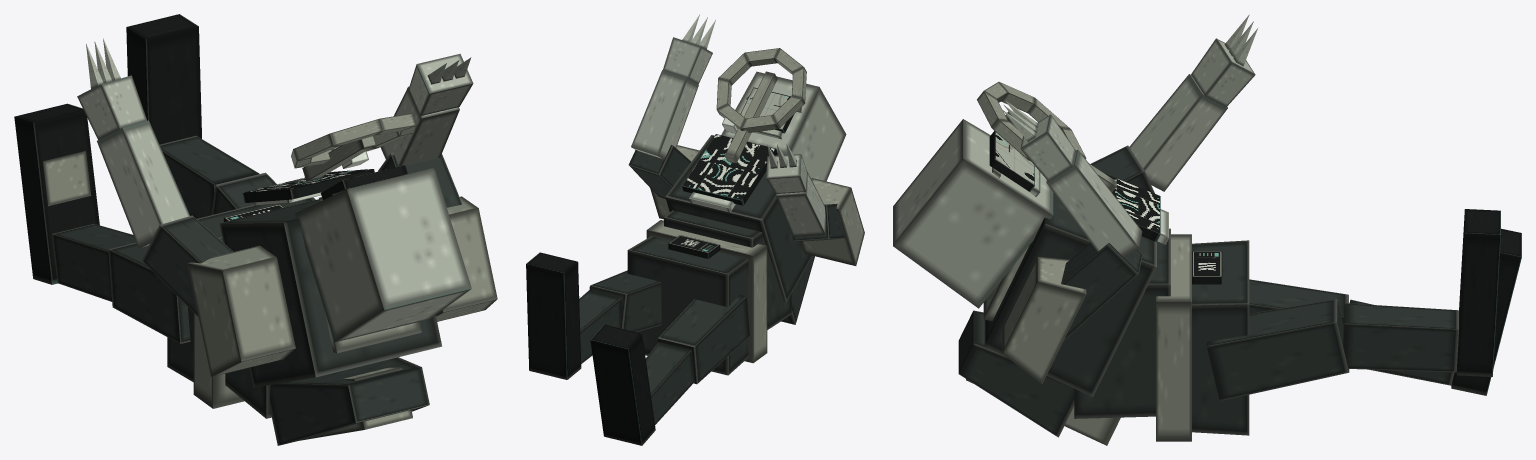
Rendered from probator_attack.obj.
3 renders of one model, left to right at view 1: azimuth 30°, elevation 25°; view 2: azimuth 150°, elevation 25°; view 3: azimuth 270°, elevation 25°, orthographic. The views are drawn at different scales.
Visible parts, largest first — view 1: probator_attack; view 2: probator_attack; view 3: probator_attack.
Boxes of the visible parts, x1=… form: probator_attack: x1=14, y1=14, x2=497, y2=445; probator_attack: x1=526, y1=14, x2=864, y2=445; probator_attack: x1=893, y1=14, x2=1521, y2=445.
Bounding box in the file's own units: 0.5313 × 0.6638 × 1.02.
1 material, 1 textured.
